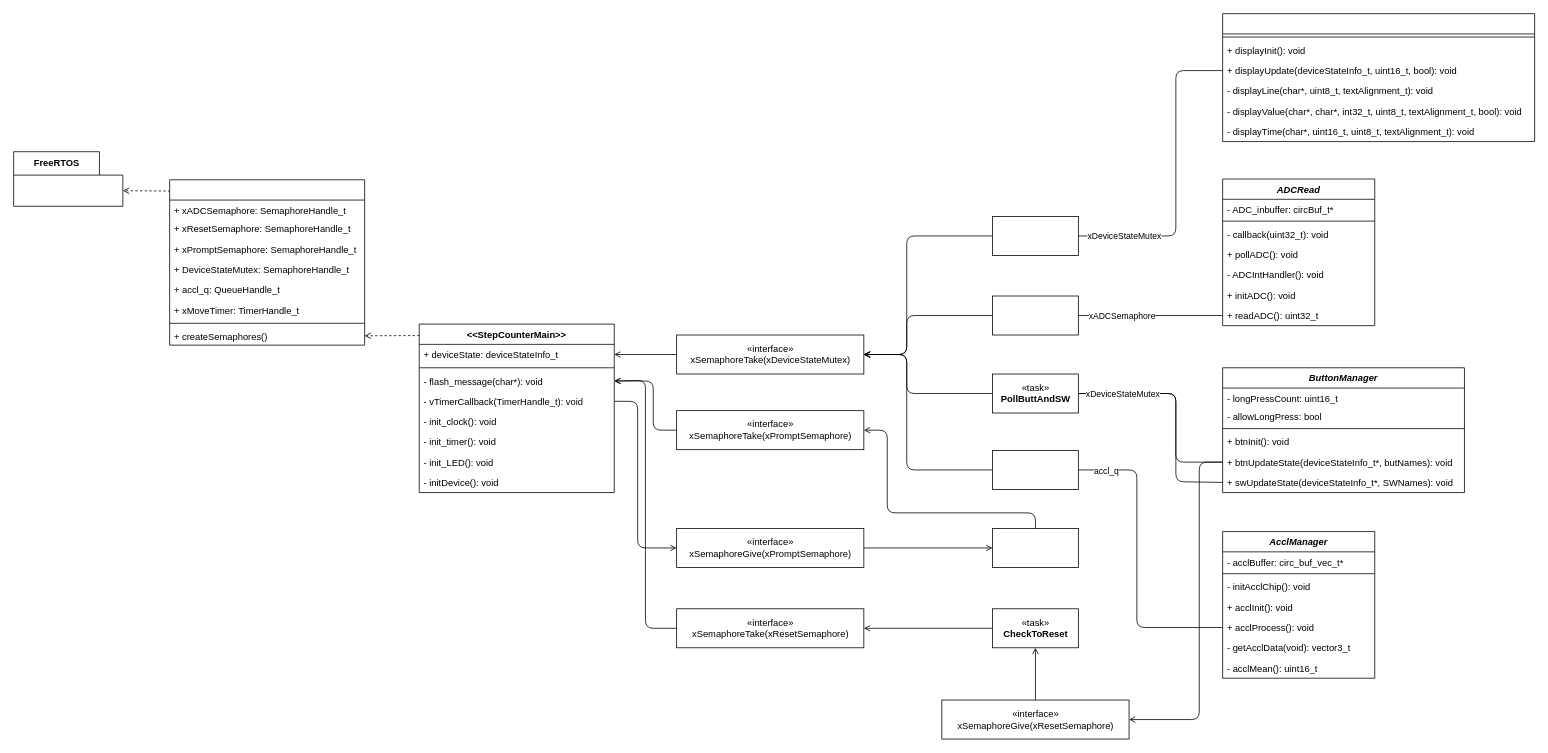
The diagram is 1548 pixels wide and 753 high, and some of its shapes have lost their labels. Each missing label, with the box of its shape:
DisplayManager: (1222, 13, 1535, 142)
Synch: (169, 179, 365, 345)
«task» Blink: (992, 528, 1078, 567)
«task» ReadProcessAccl: (992, 450, 1078, 489)
«task» UpdateNewGoal: (992, 295, 1078, 335)
«task» WriteToDisplay: (992, 216, 1078, 255)
